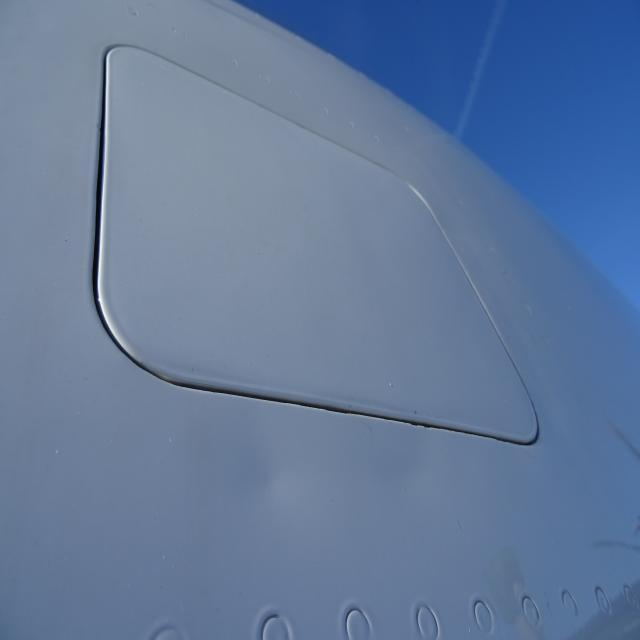dent: (195, 403, 318, 547), (361, 424, 459, 528)
